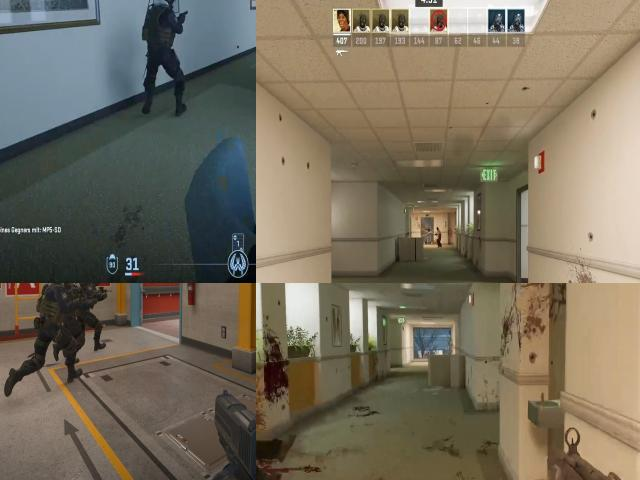CT: (137, 0, 185, 78), (37, 283, 71, 382), (67, 283, 89, 362), (84, 283, 105, 345)
CT-Head: (151, 0, 182, 14), (78, 283, 88, 287)
Dead: (256, 411, 291, 480)
T: (435, 226, 444, 246)
